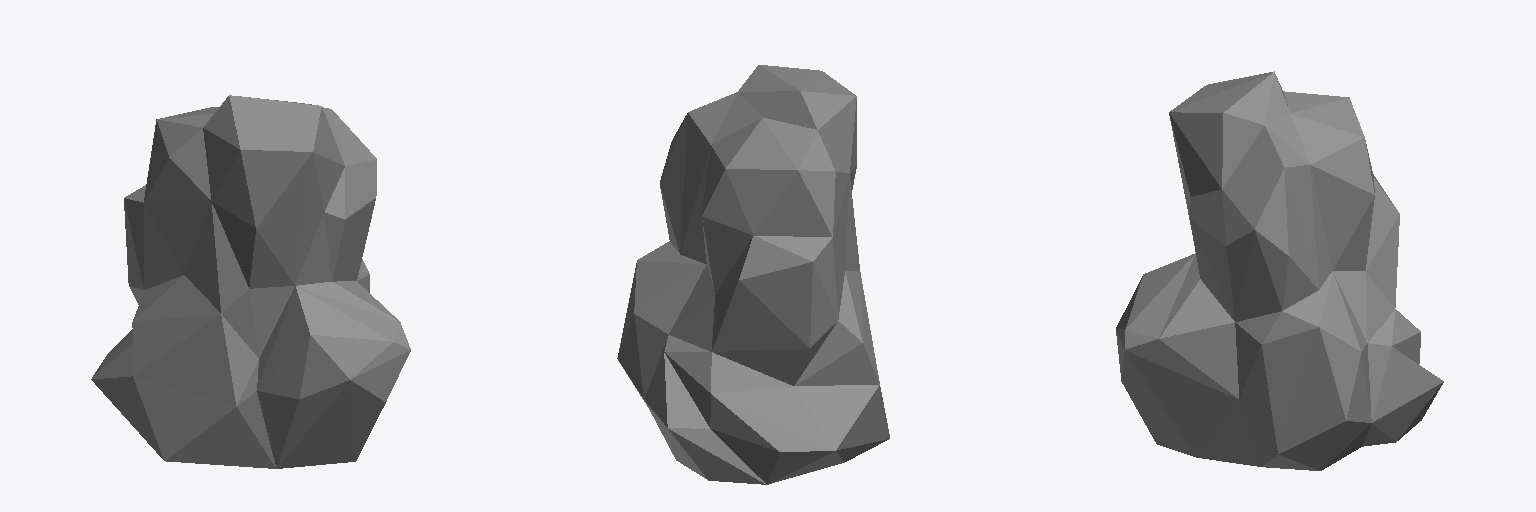
Rendered from Roca_02.obj.
The picture shows the model from 3 angles: view 1: azimuth 30°, elevation 25°; view 2: azimuth 150°, elevation 25°; view 3: azimuth 270°, elevation 25°; orthographic projection.
Parts seen in each view (by area): view 1: Roca_02; view 2: Roca_02; view 3: Roca_02.
Boxes of the visible parts, x1=… form: Roca_02: x1=91, y1=95, x2=410, y2=468; Roca_02: x1=617, y1=65, x2=889, y2=484; Roca_02: x1=1116, y1=71, x2=1443, y2=470.
Bounding box in the file's own units: 23.39 × 32.32 × 28.28.